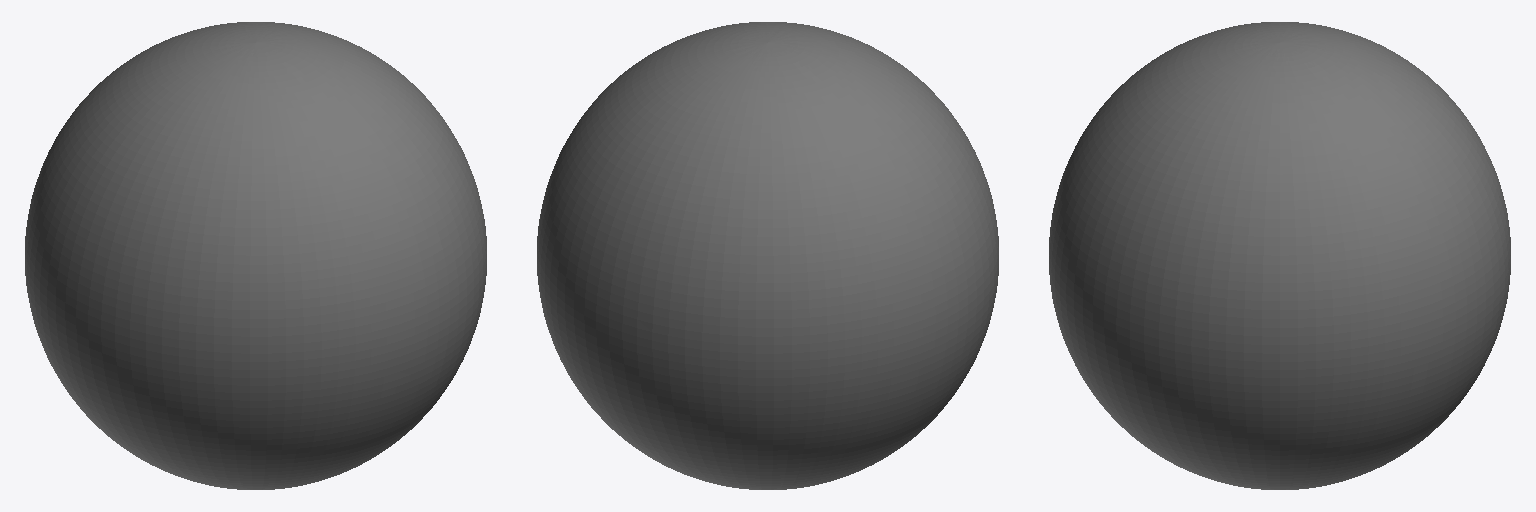
File: f_rhip.obj
3 renders of one model, left to right at view 1: azimuth 30°, elevation 25°; view 2: azimuth 150°, elevation 25°; view 3: azimuth 270°, elevation 25°, orthographic.
Parts seen in each view (by area): view 1: pSphere7; view 2: pSphere7; view 3: pSphere7.
Part boxes in pixels (x1,y1,x2,y2): pSphere7: (25,22,486,489); pSphere7: (537,22,998,489); pSphere7: (1049,22,1510,489).
Bounding box in the file's own units: 0.7187 × 0.7315 × 0.7187.